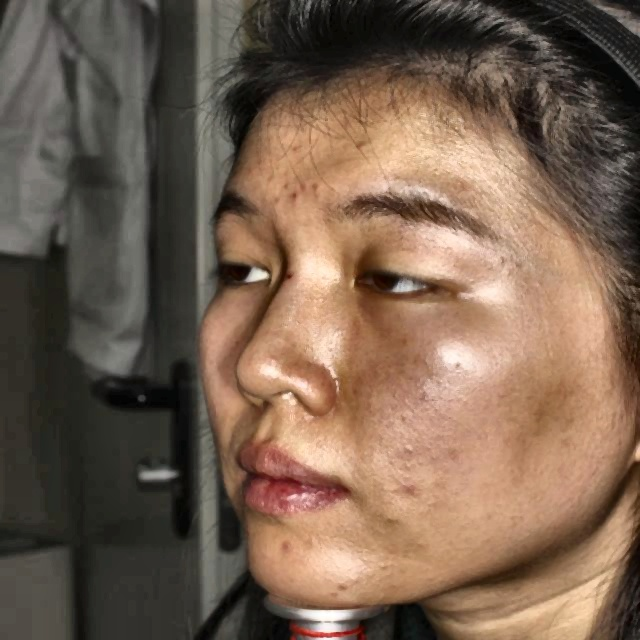pustule: (266, 532, 304, 558), (399, 474, 429, 506), (326, 580, 364, 596), (286, 139, 314, 160), (352, 134, 374, 158), (292, 178, 309, 201)
